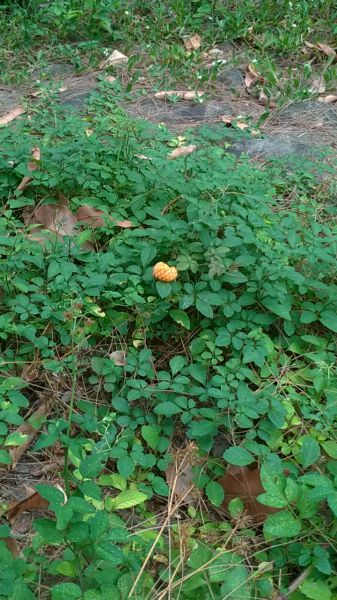eggs: (148, 255, 181, 288)
